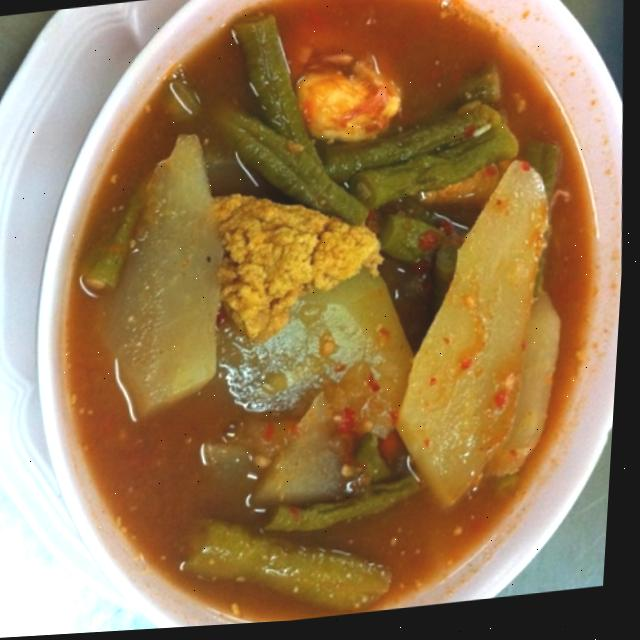汤锅炖物: (16, 0, 623, 638)
